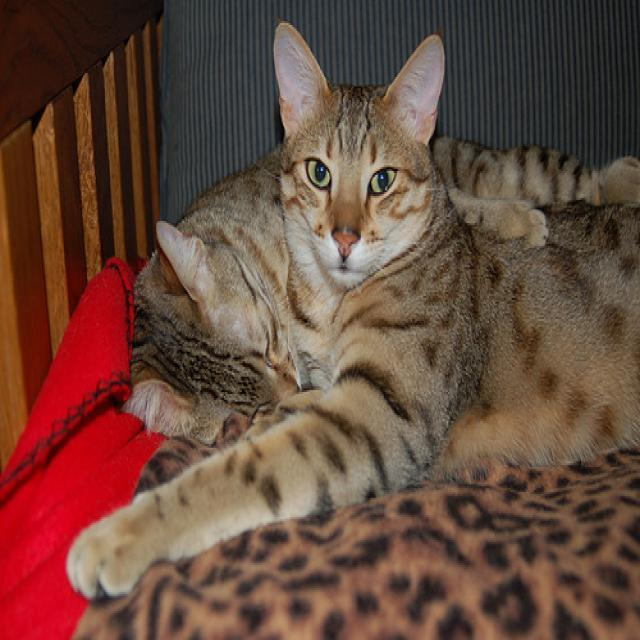Egyptian_Mau: (271, 22, 443, 287)
